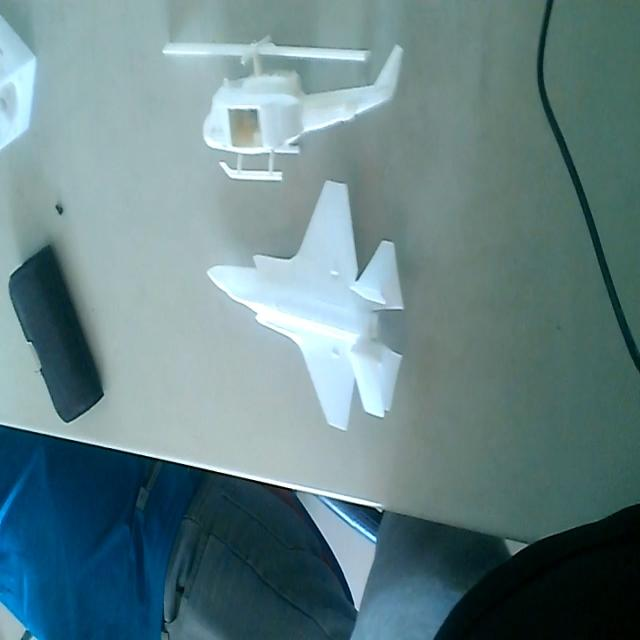Helicopter: (163, 29, 407, 183)
Jet: (210, 177, 403, 445)
